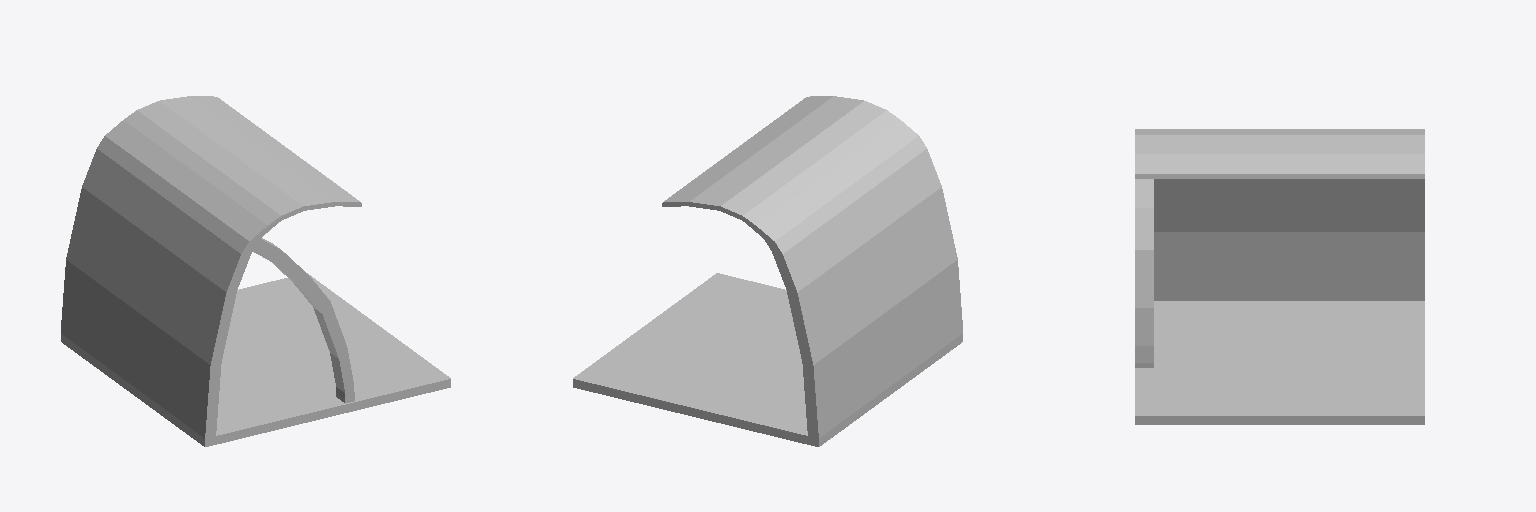
The model's file is cor.obj.
3 renders of one model, left to right at view 1: azimuth 30°, elevation 25°; view 2: azimuth 150°, elevation 25°; view 3: azimuth 270°, elevation 25°, orthographic.
Visible parts, largest first — view 1: Mesh_cornomtl; view 2: Mesh_cornomtl; view 3: Mesh_cornomtl.
Boxes of the visible parts, box(x1,y1,x2,y2) form: Mesh_cornomtl: box(61, 96, 450, 446); Mesh_cornomtl: box(573, 96, 962, 446); Mesh_cornomtl: box(1135, 129, 1424, 424).
Size of the model in its own units: 8.37 by 7.05 by 8.51.